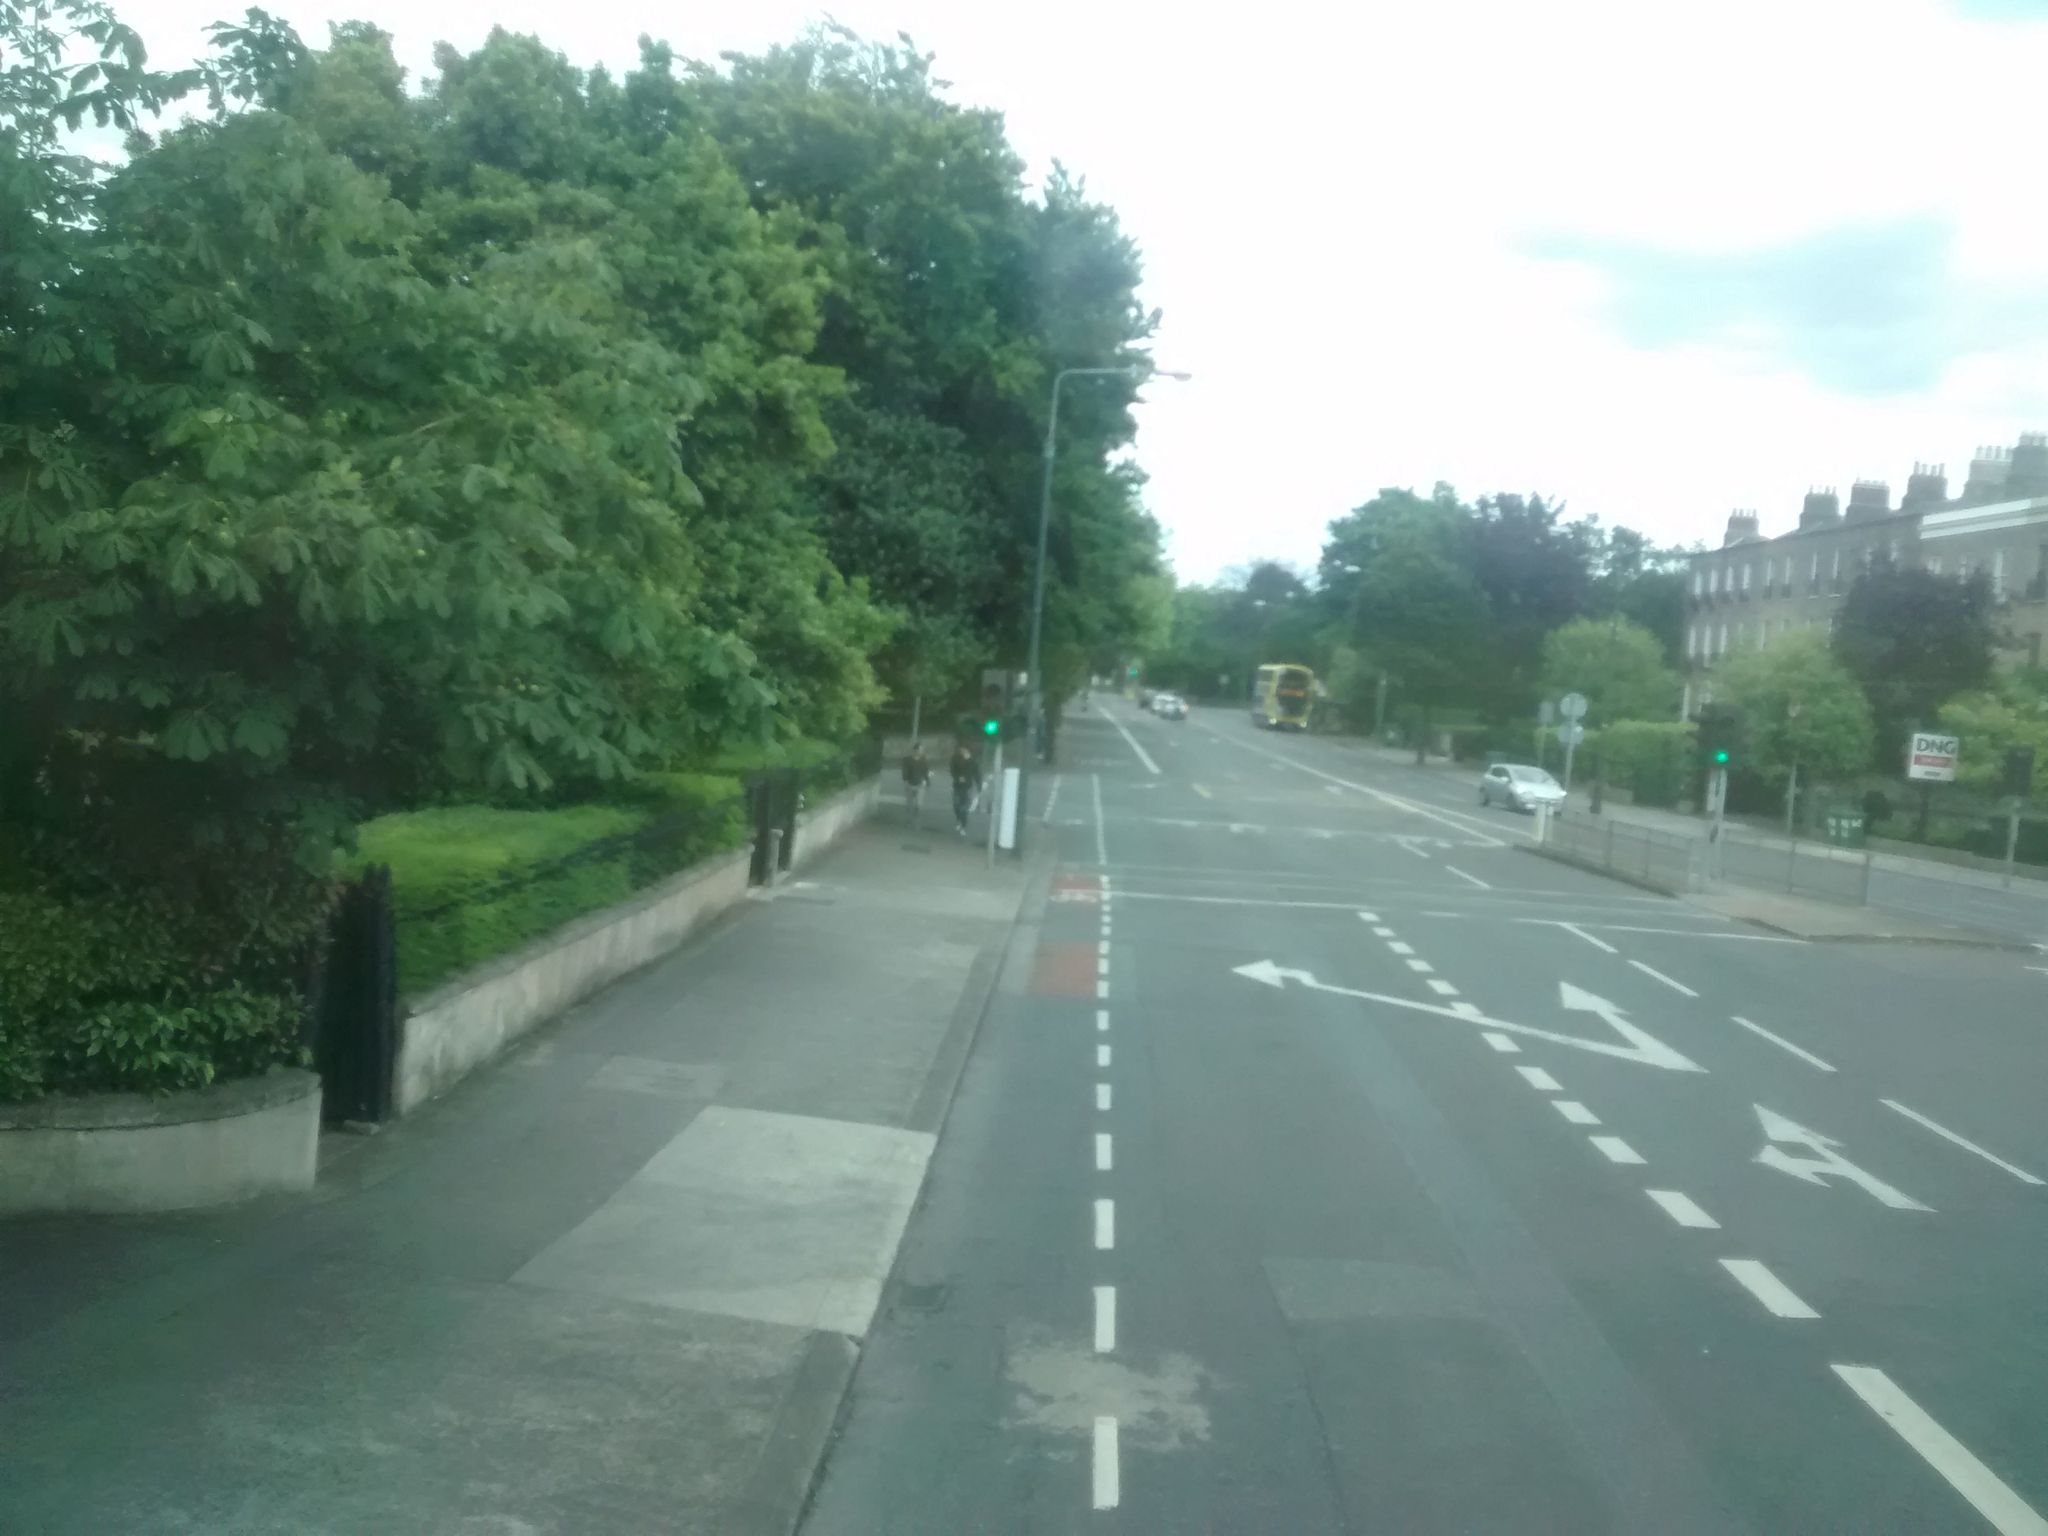property sign: (1900, 712, 1974, 802)
